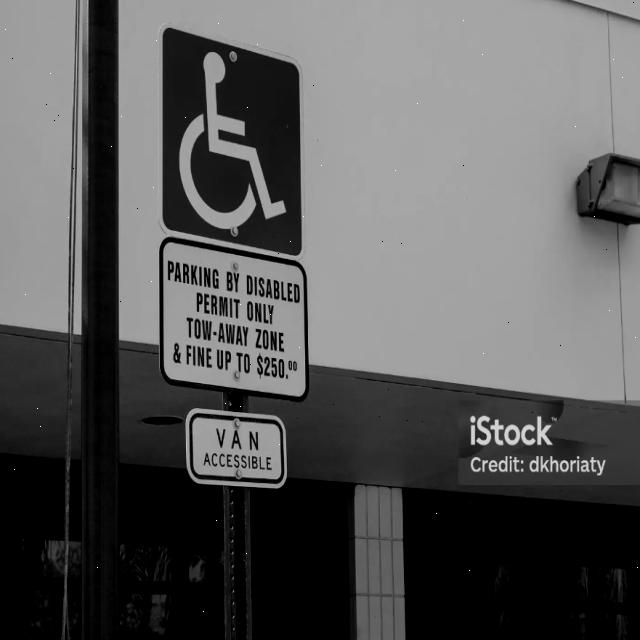symbol_of_access: (156, 20, 308, 263)
